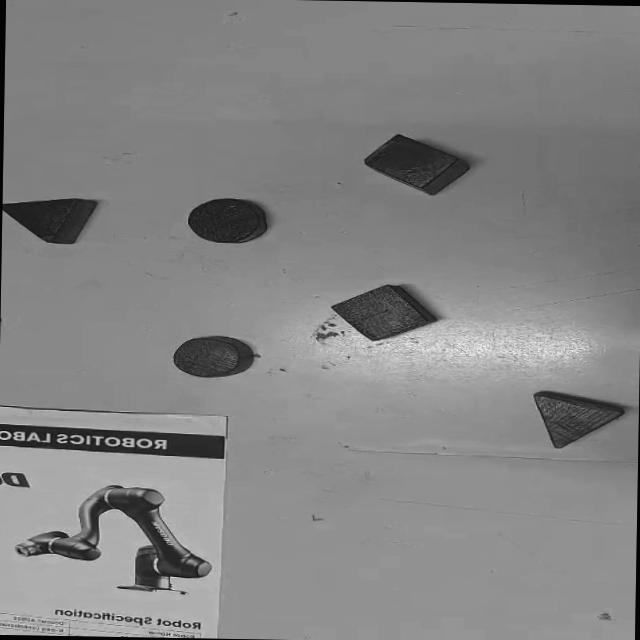bcircle: (183, 197, 266, 243)
bcube: (328, 282, 438, 342)
btriangle: (1, 196, 96, 244)
rcircle: (174, 336, 254, 379)
rcube: (362, 133, 468, 196)
rtriangle: (530, 390, 624, 450)
